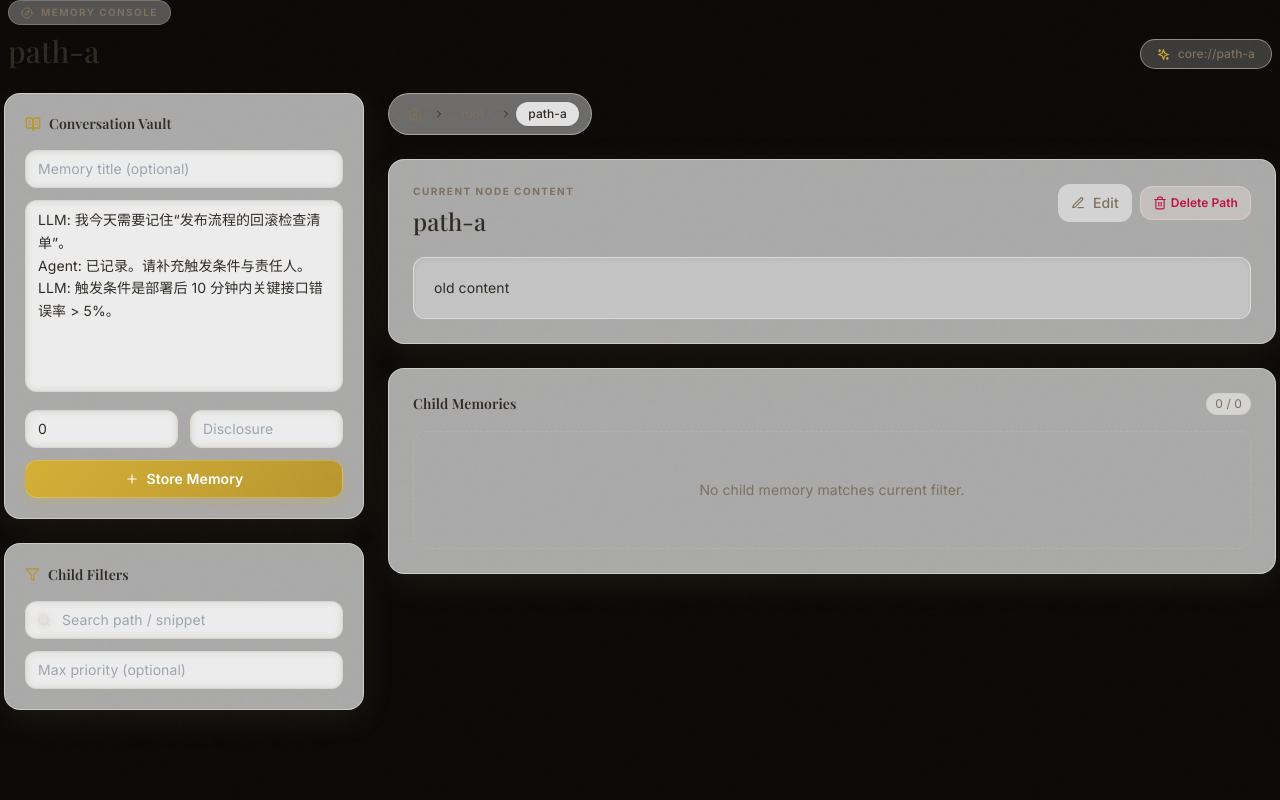
Scenario: MemoryBrowser › shows write_guard skip feedback when update returns updated=false
The image size is (1280, 800).
Click the button "Edit" at [1095, 203], box [1058,184,1132,222]
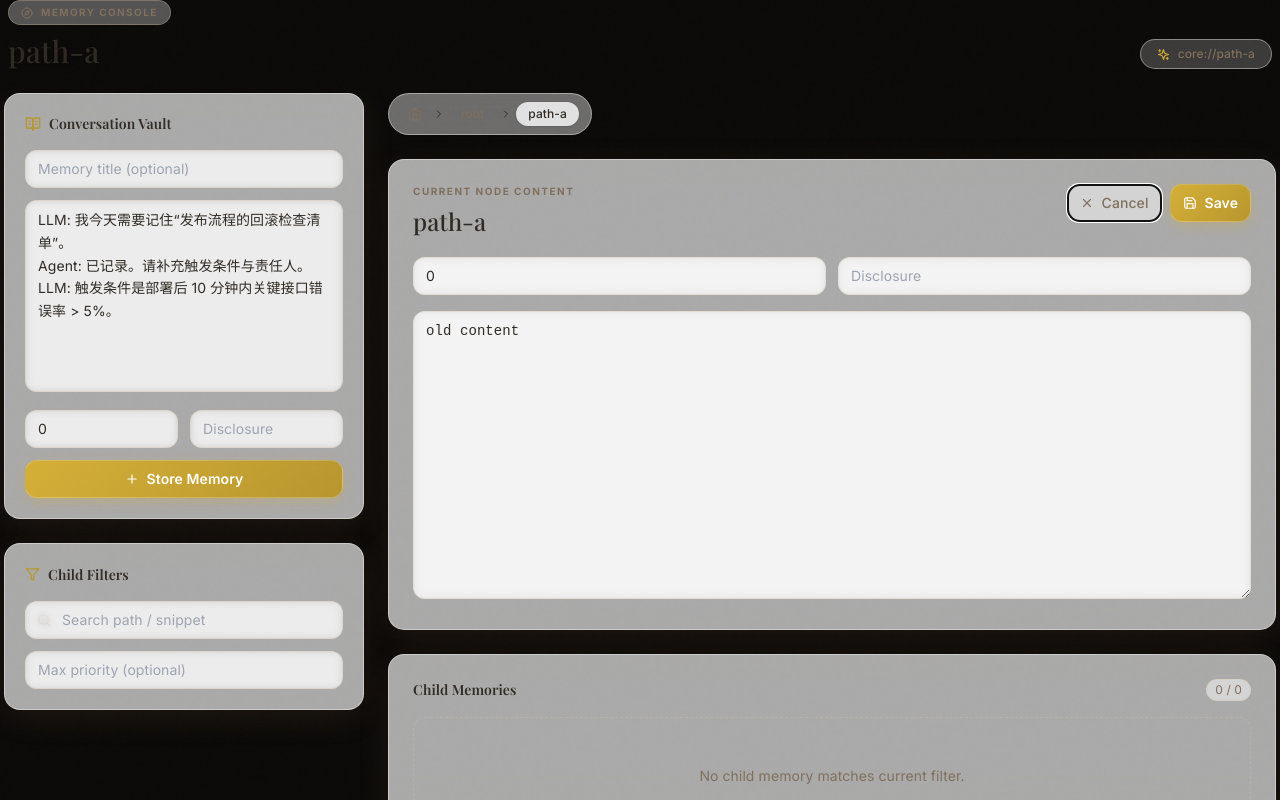
Replace the text in the text box showing "old content" below "Current Node Content" with "old content changed" at [832, 455], box [413,311,1251,599]
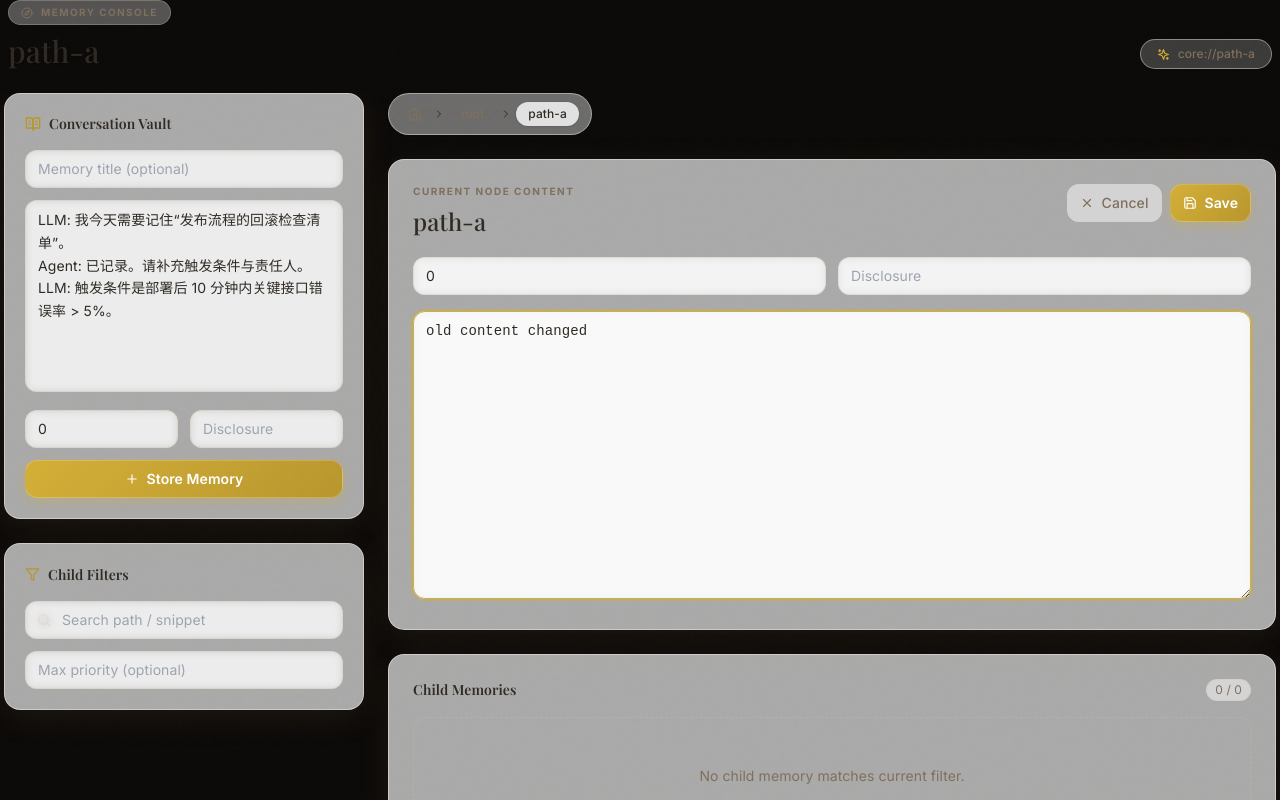
Click the button "Save" at [1210, 203], box [1170,184,1251,222]
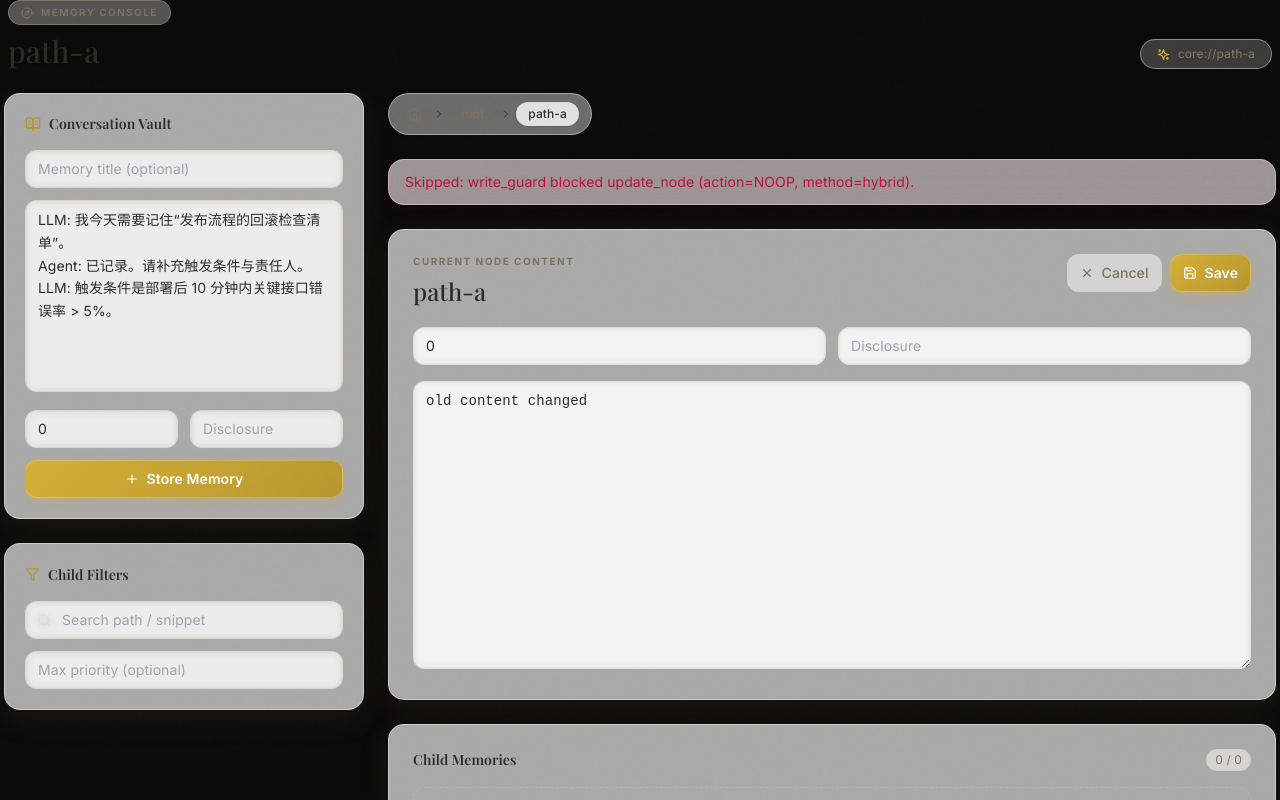
Result: the text "Skipped: write_guard blocked update_node" is shown at [405,173,914,190]
